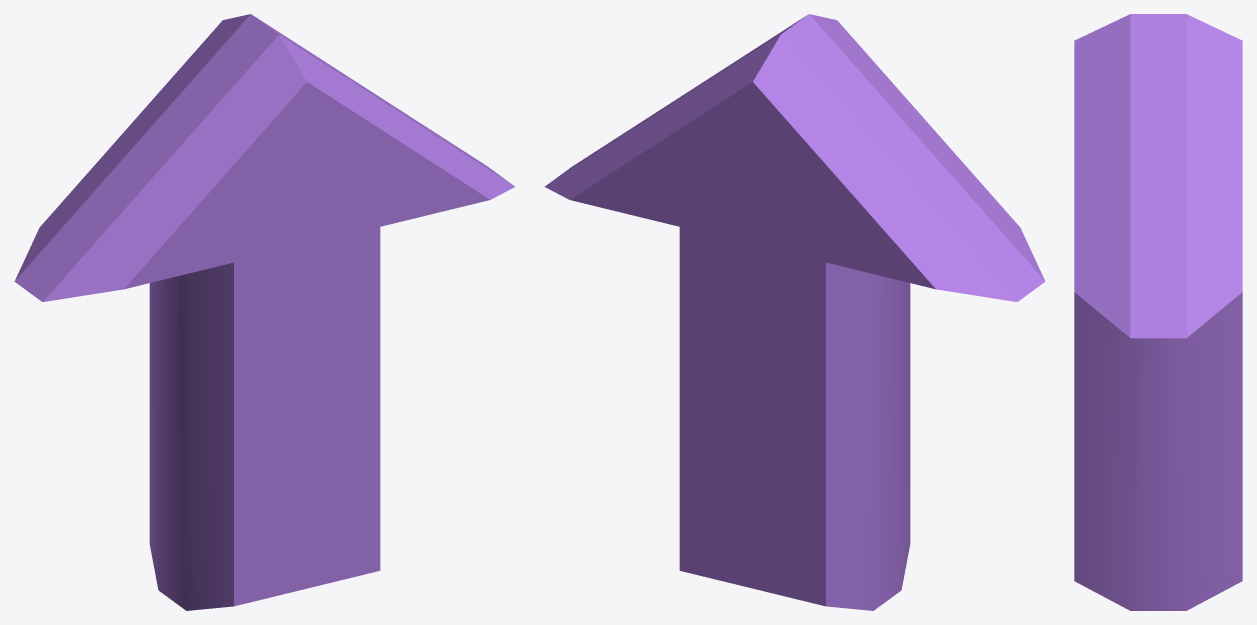
Rendered from Flecha.fbx.
3 views of the same model, side by side, from view 1: azimuth 30°, elevation 25°; view 2: azimuth 150°, elevation 25°; view 3: azimuth 270°, elevation 25° (orthographic).
Parts seen in each view (by area): view 1: Box001; view 2: Box001; view 3: Box001.
Boxes of the visible parts, <box> form: Box001: <box>14,14,515,610</box>; Box001: <box>544,14,1045,610</box>; Box001: <box>1074,14,1242,610</box>.
Size of the model in its own units: 48.55 by 54.34 by 15.
